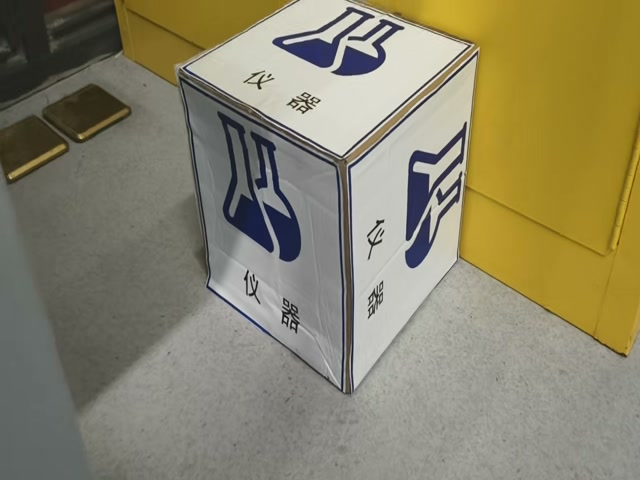Cube_ins: (171, 5, 473, 171)
